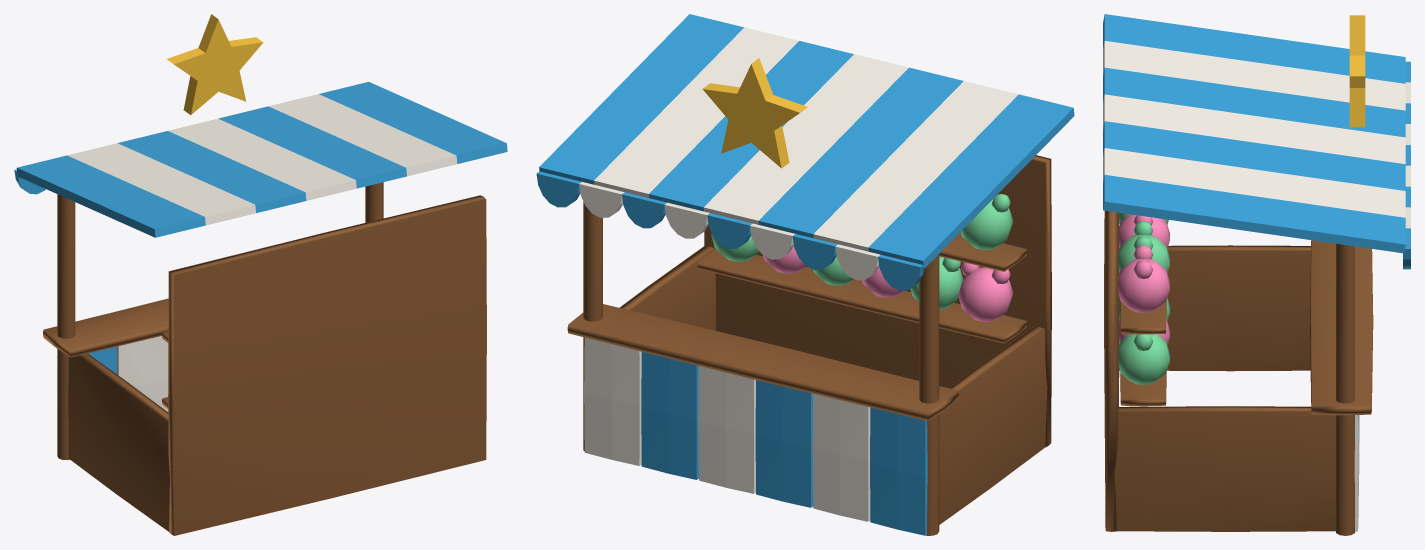
File: PumpGameBooth.obj
The picture shows the model from 3 angles, left to right: view 1: azimuth 30°, elevation 25°; view 2: azimuth 150°, elevation 25°; view 3: azimuth 270°, elevation 25°; orthographic projection. The views are drawn at different scales.
Parts seen in each view (by area): view 1: Frame, BoothA, BoothB, Sign; view 2: Frame, BoothA, BoothB, Sign, PrizesB, PrizesA; view 3: Frame, BoothA, BoothB, PrizesB, PrizesA, Sign.
Part boxes in pixels (x1,y1,x2,y2): Frame: (43,182,486,535); BoothA: (14,82,507,373); BoothB: (67,94,457,411); Sign: (167,14,263,114); Frame: (567,155,1051,535); BoothA: (536,14,1074,535); BoothB: (579,27,1018,521); Sign: (702,58,807,168); PrizesB: (711,194,1013,309); PrizesA: (763,246,1013,321); Frame: (1104,210,1373,535); BoothA: (1103,14,1410,441); BoothB: (1103,41,1410,531); PrizesB: (1118,212,1169,384); PrizesA: (1118,214,1169,344); Sign: (1349,15,1365,127).
Bounding box in the file's own units: 11.2 × 12.1 × 7.77.
